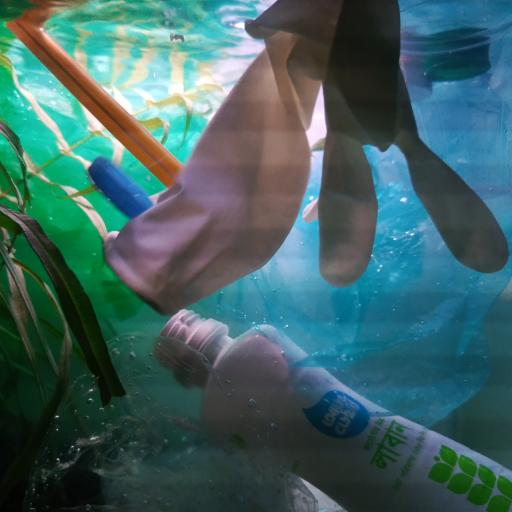bottle_cap: (86, 158, 146, 218)
glove: (103, 0, 512, 314)
plastic_bag: (181, 91, 512, 431), (20, 331, 324, 512), (1, 115, 171, 329)
plastic_bottle: (151, 309, 512, 512)
plastic_cup: (398, 0, 512, 202)
plastic_straw: (7, 19, 181, 184)
